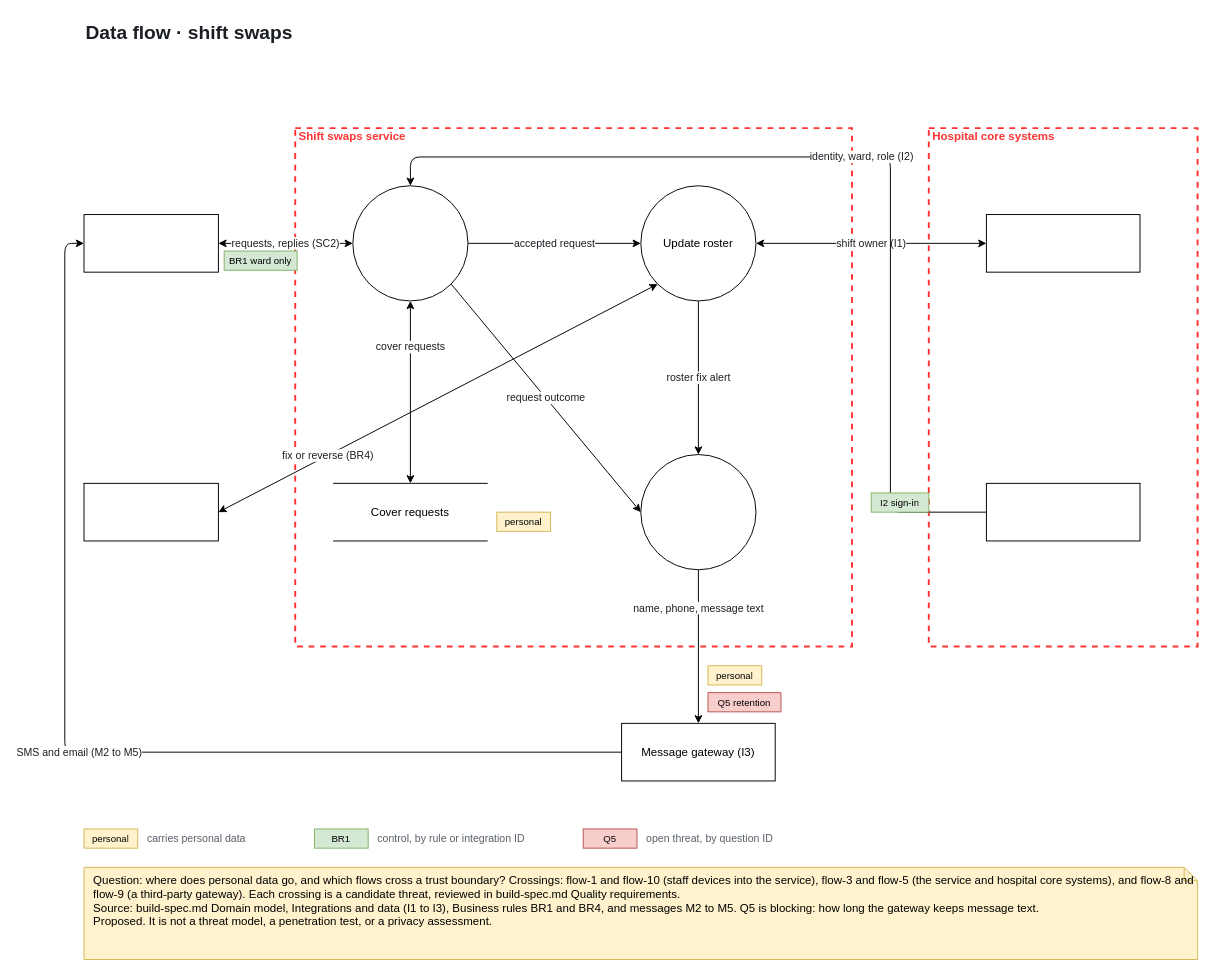
The diagram is 1215 pixels wide and 976 high, and some of its shapes have lost their labels. The centre of each missing label's shape, as x and y in pixels:
"Charge nurse" goes at (x=150, y=511).
"Request and accept cover" goes at (x=410, y=243).
"Roster system (I1)" goes at (x=1062, y=243).
"Send messages" goes at (x=698, y=512).
"Staff directory (I2)" goes at (x=1062, y=511).
"Ward nurse" goes at (x=150, y=243).
